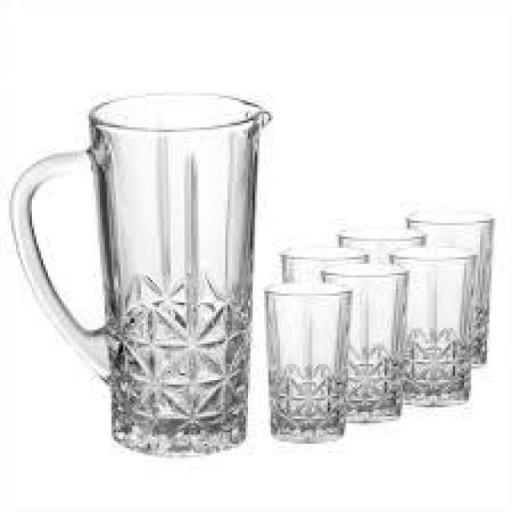glass: (0, 66, 276, 464), (404, 202, 496, 369), (264, 280, 354, 441), (388, 244, 478, 399), (323, 260, 411, 418), (278, 244, 368, 284), (334, 225, 428, 261)
